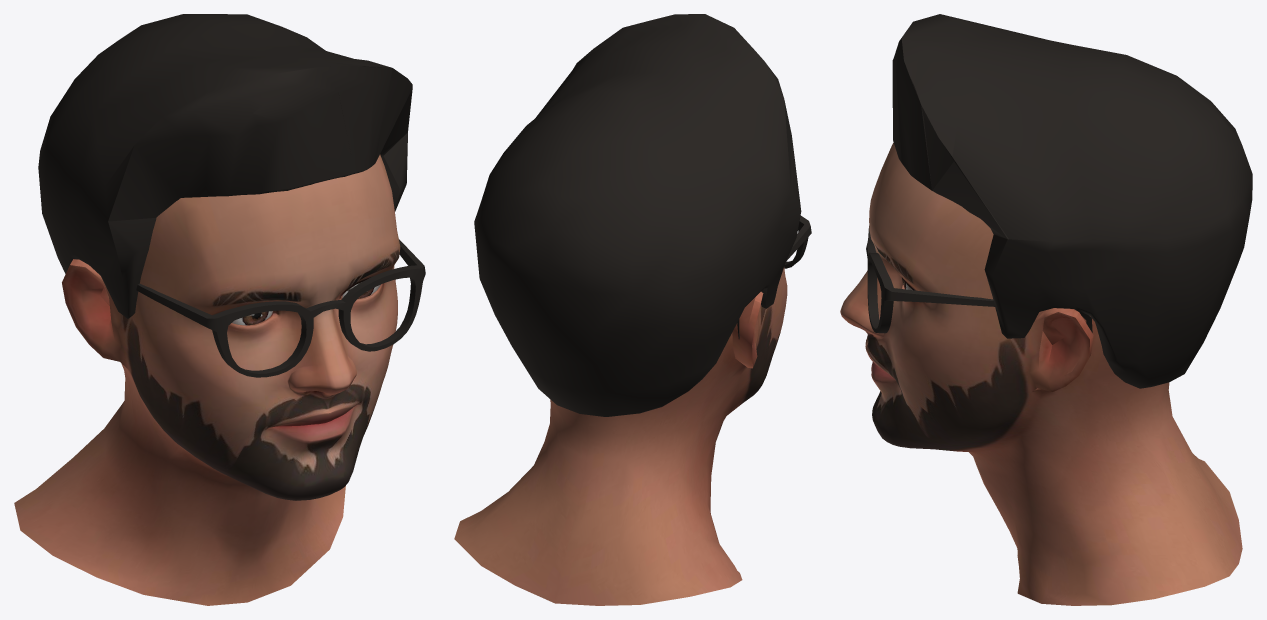
Rendered from my_face__quiff_hairstyle.glb.
The picture shows the model from 3 angles, left to right: view 1: azimuth 30°, elevation 25°; view 2: azimuth 150°, elevation 25°; view 3: azimuth 270°, elevation 25°; orthographic projection. The views are drawn at different scales.
Visible parts, largest first — view 1: Object_5, Object_2; view 2: Object_2, Object_5; view 3: Object_2, Object_5.
Boxes of the visible parts, x1=… form: Object_5: x1=14, y1=154, x2=400, y2=605; Object_2: x1=38, y1=14, x2=425, y2=377; Object_2: x1=474, y1=14, x2=811, y2=416; Object_5: x1=454, y1=267, x2=787, y2=605; Object_2: x1=866, y1=14, x2=1252, y2=388; Object_5: x1=840, y1=143, x2=1242, y2=605.
Bounding box in the file's own units: 0.1936 × 0.3412 × 0.2331.
4 materials, 4 textured.
